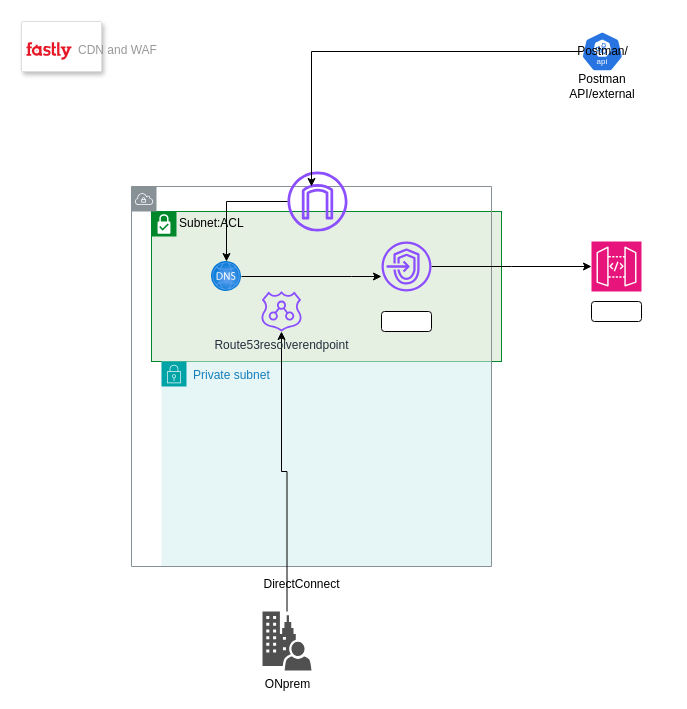
The diagram is 687 pixels wide and 709 high, and some of its shapes have lost their labels. Each missing label, with the centre of its shape:
Interface for APIGW: (406,266)
Resource Policy/VPC/Account only: (616,311)
SG: (406,321)
